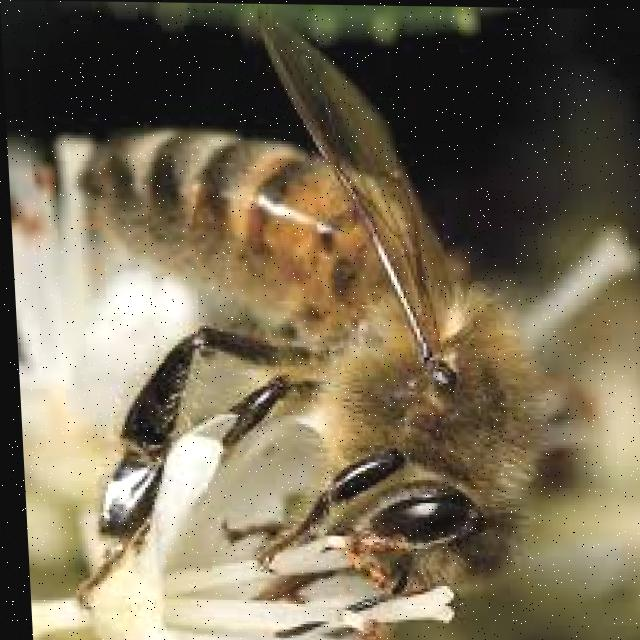Apis-mellifera-scutellata: (61, 10, 552, 640)
